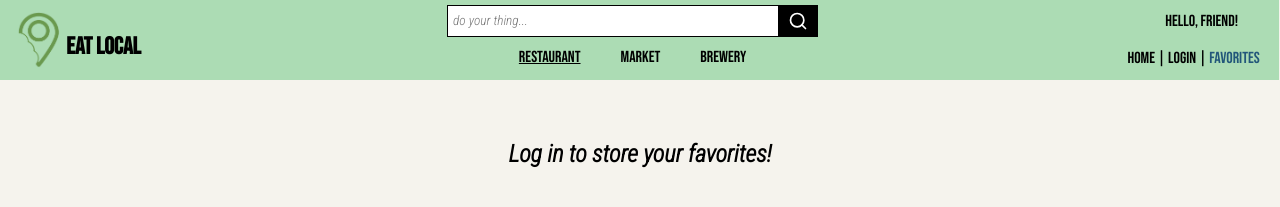
Test: Favorites Page › should display a message in place of favorites or fav search bar to a logged in user with no favorites
Expected: the heading "Log in to store your favorites!" is shown, [508,140,772,168]
Click the text with class "login" at (1182, 59), box [1168,49,1196,68]
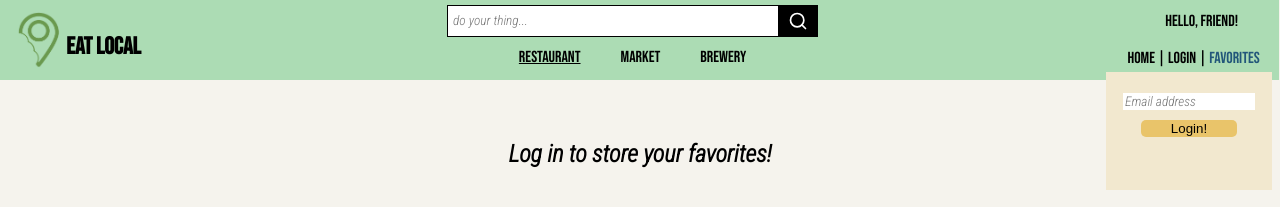
Type "example@email.com" into the field with class "input-email" at (1189, 102), box [1123,93,1255,110]
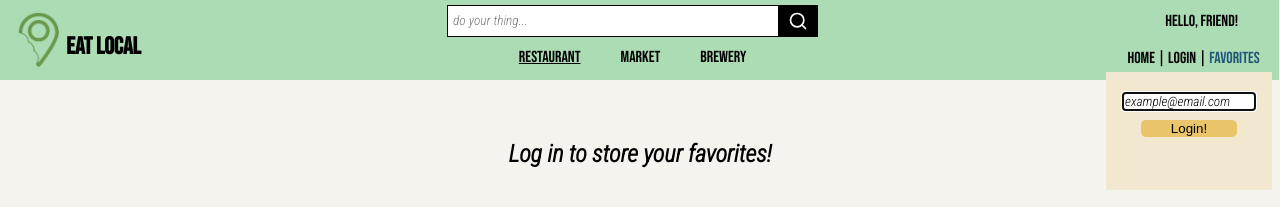
Click the button with class "login-btn" at (1189, 129), box [1141,120,1237,137]
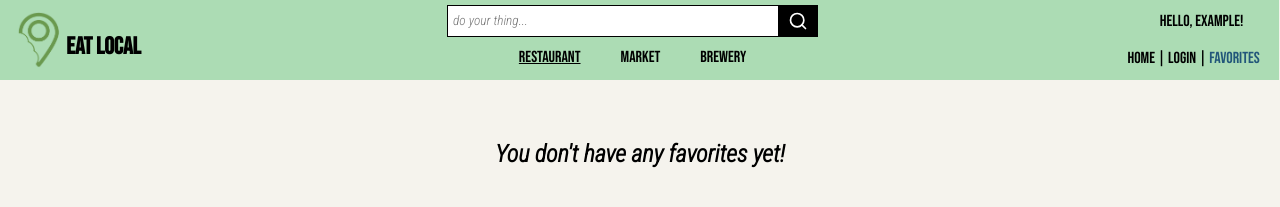
Result: the heading "You don't have any favorites yet!" is shown at [495,140,785,168]
